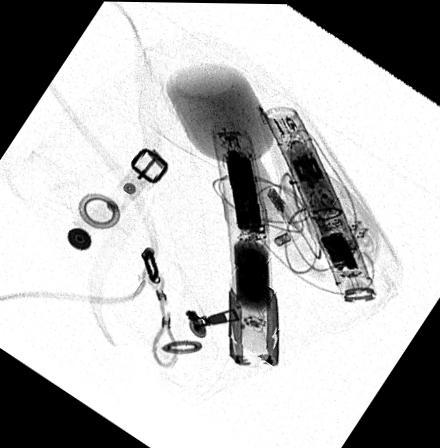Baton: (261, 103, 377, 302), (210, 124, 279, 366)
